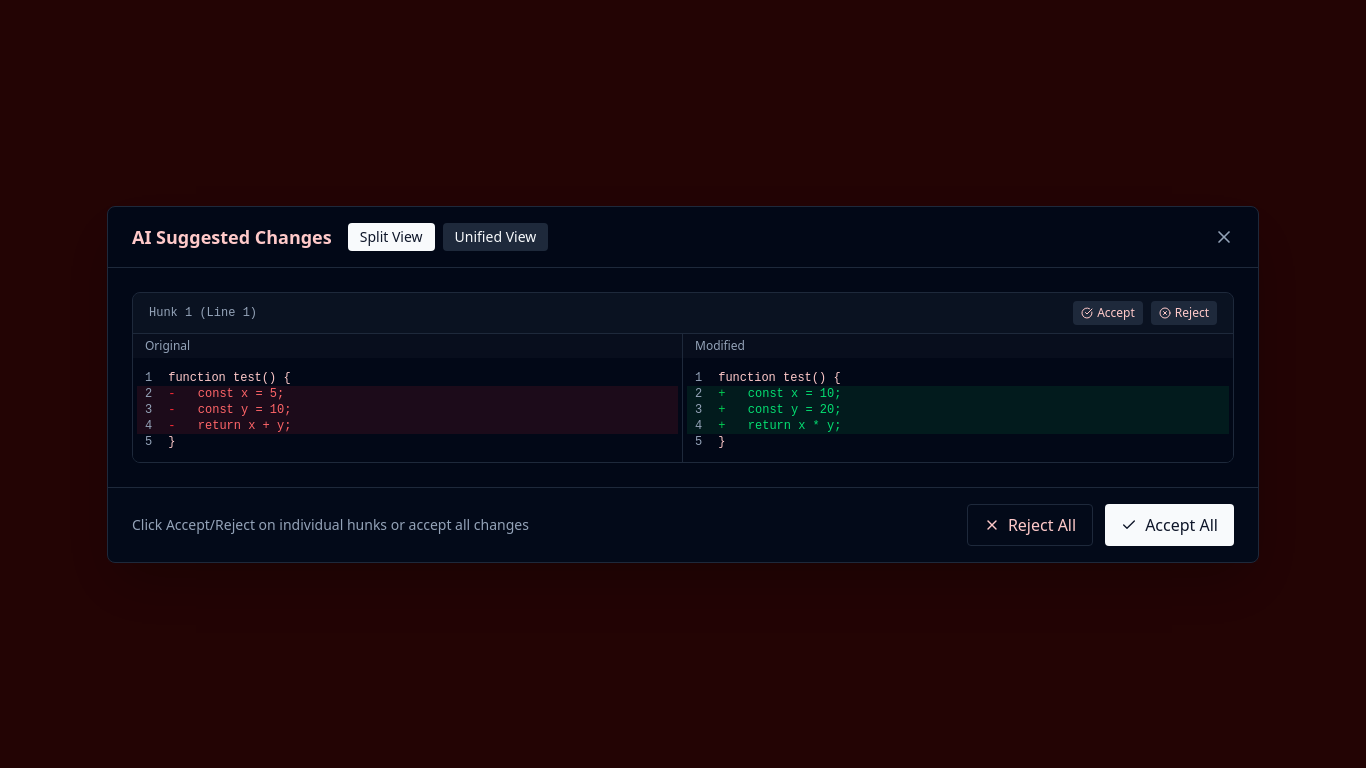
DiffPreview - Per-Hunk Diff Acceptance › switches between split and unified views
Click the button "Unified View".
click(495, 236)  # box [443,222,548,250]
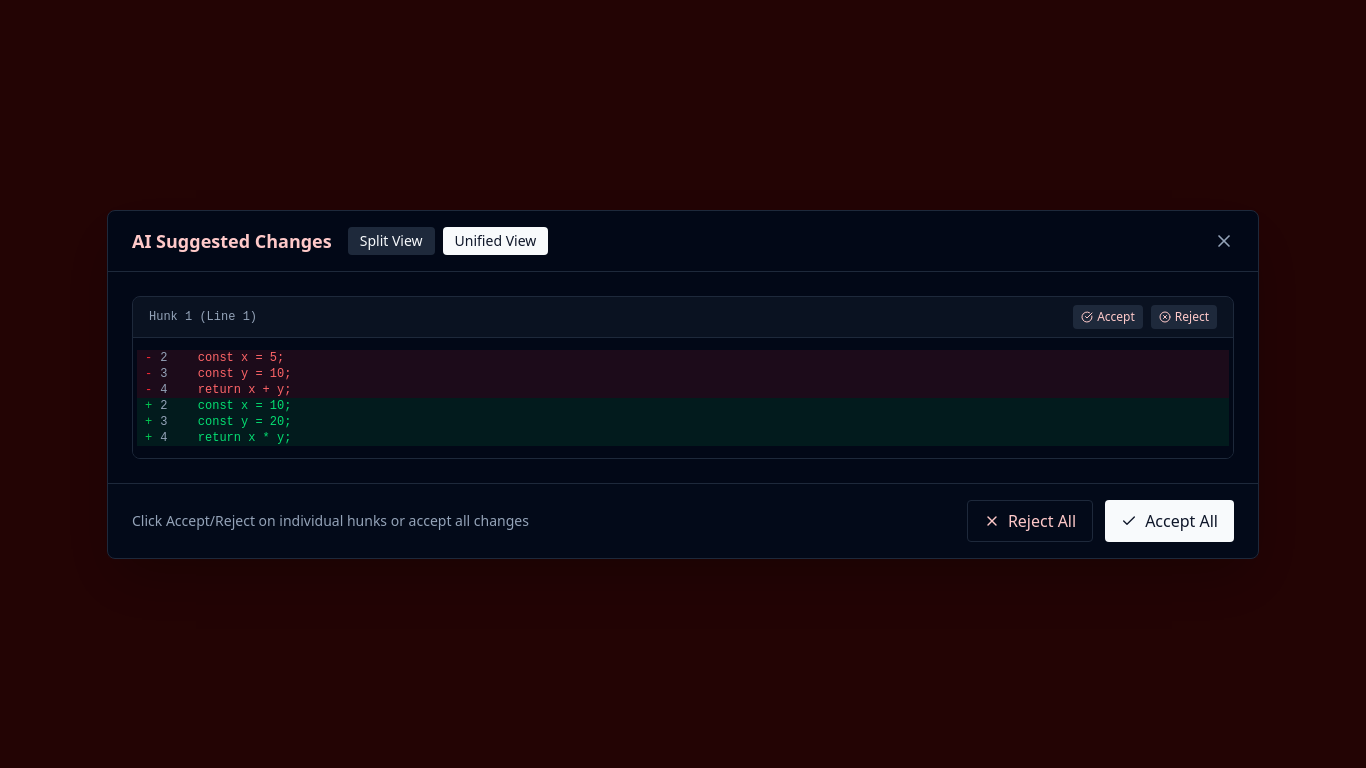
Expected: the text "Original" is gone
// Switch back
Click the button "Split View".
click(391, 240)  # box [348,226,435,254]
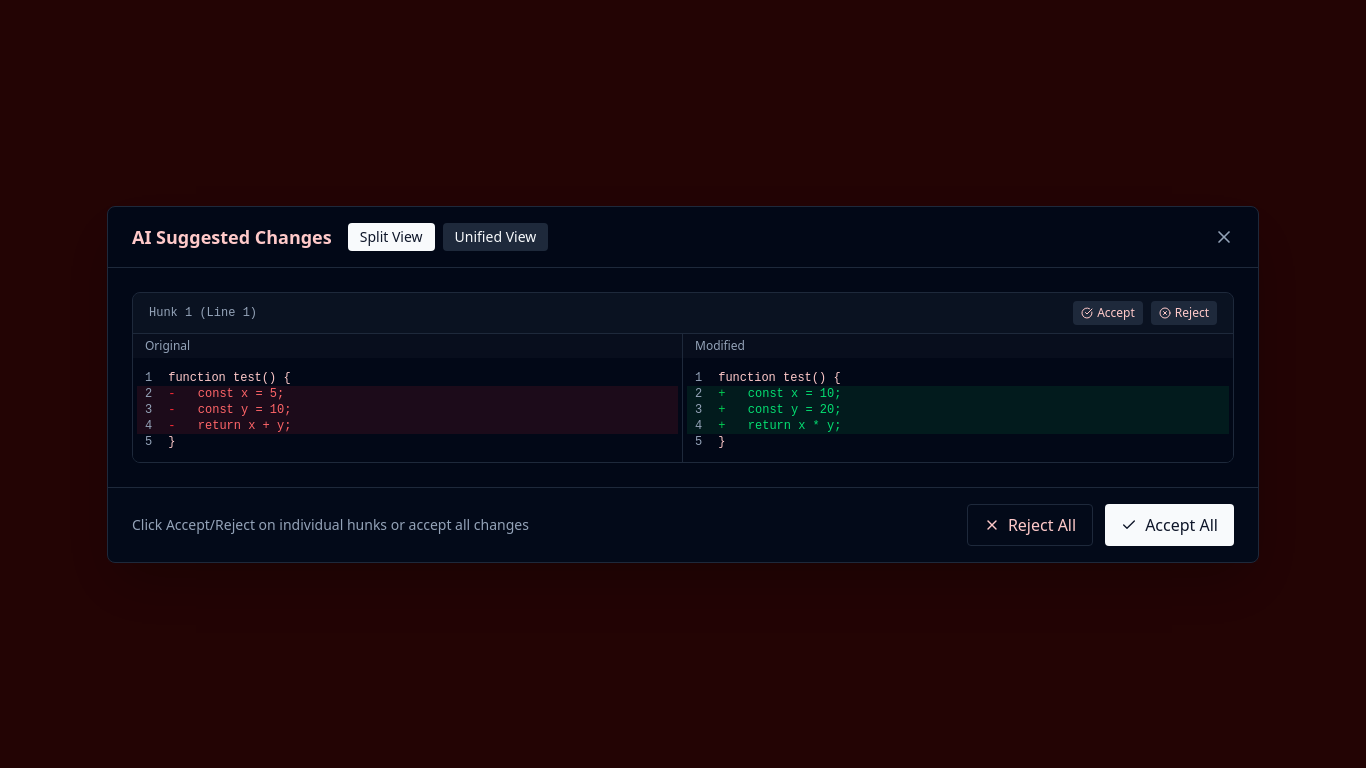
Expected: the text "Original" is shown, [133,334,682,358]
